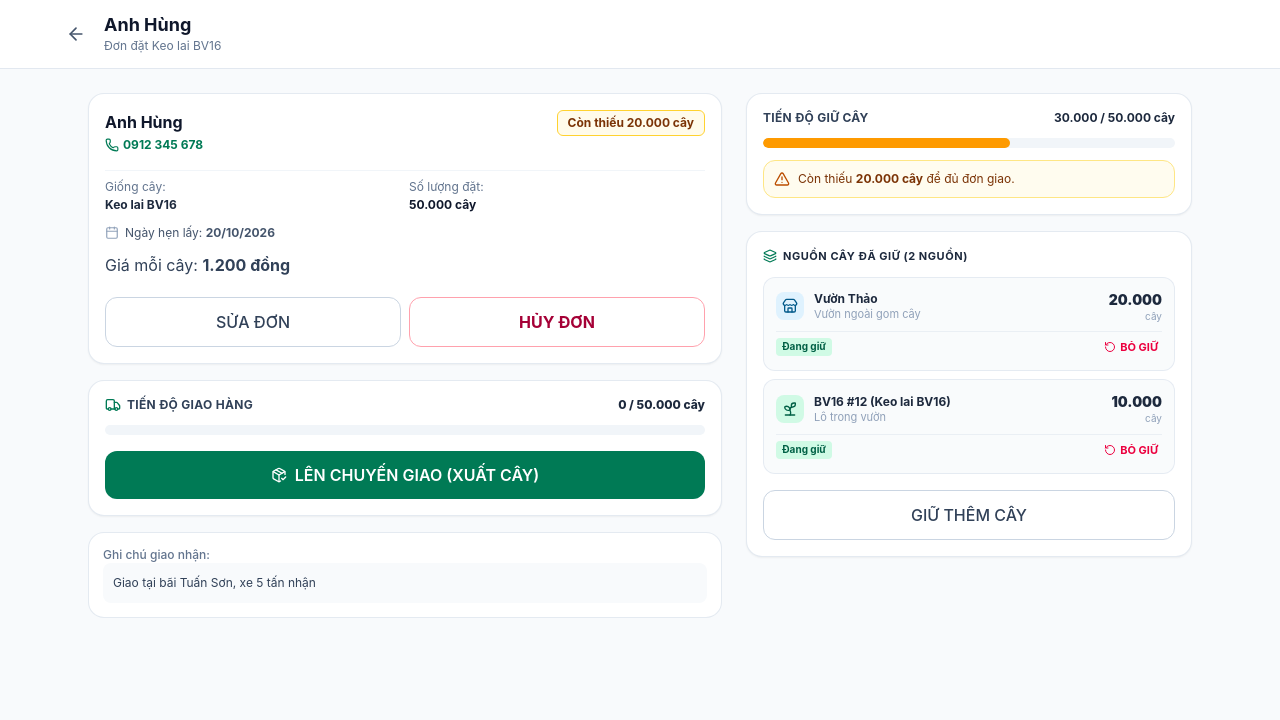
it: FC2 Order Edit/Cancel UI › hides projected after numbers for unreadable input and protects saving
Click the button "SỬA ĐƠN": (253, 322) [105,297,401,347]
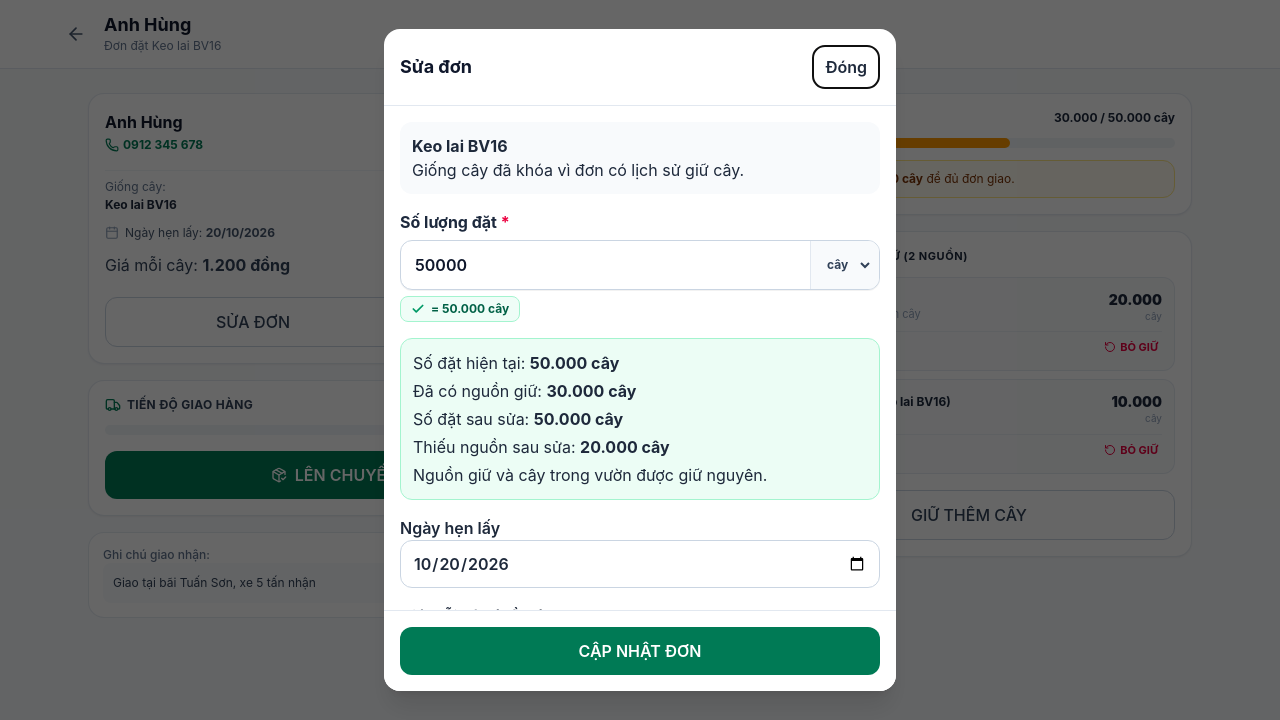
Replace the text in the field labelled "Số lượng đặt *" with "abc": (606, 265) [401,241,810,289]
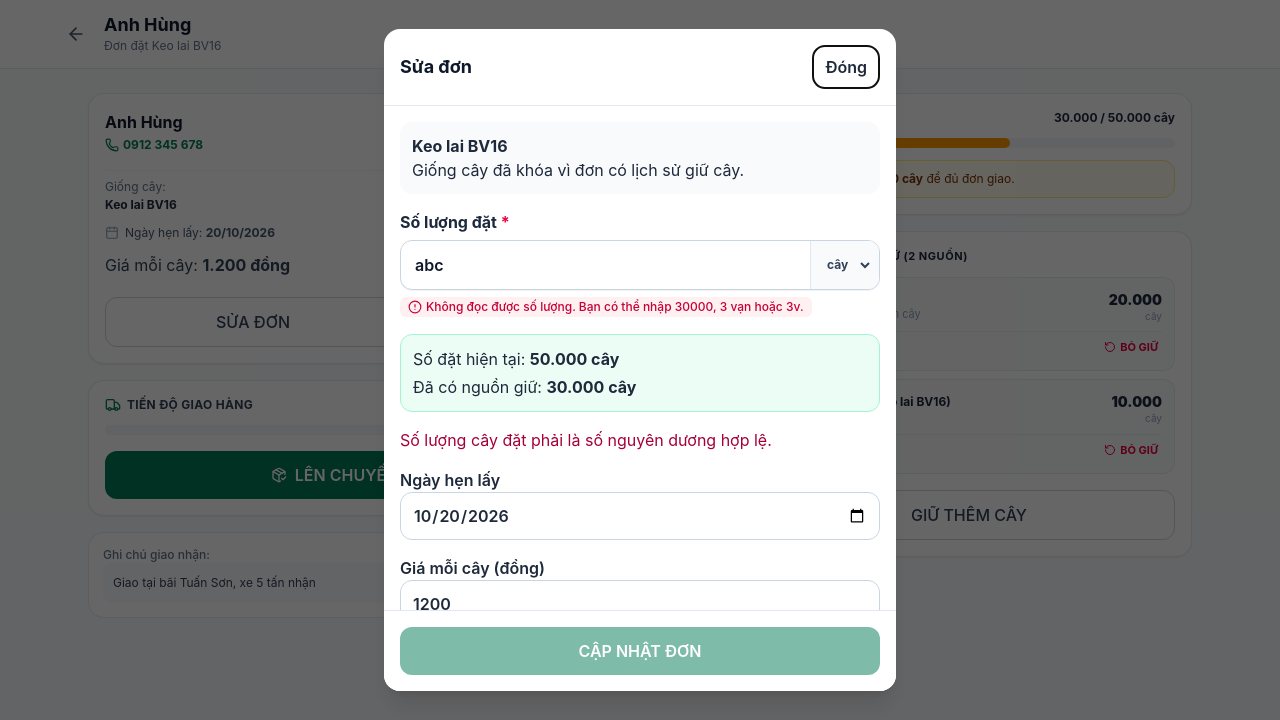
Expected: the text "Số đặt sau sửa" is gone
Expected: the button "CẬP NHẬT ĐƠN" is disabled, [400,627,880,675]
